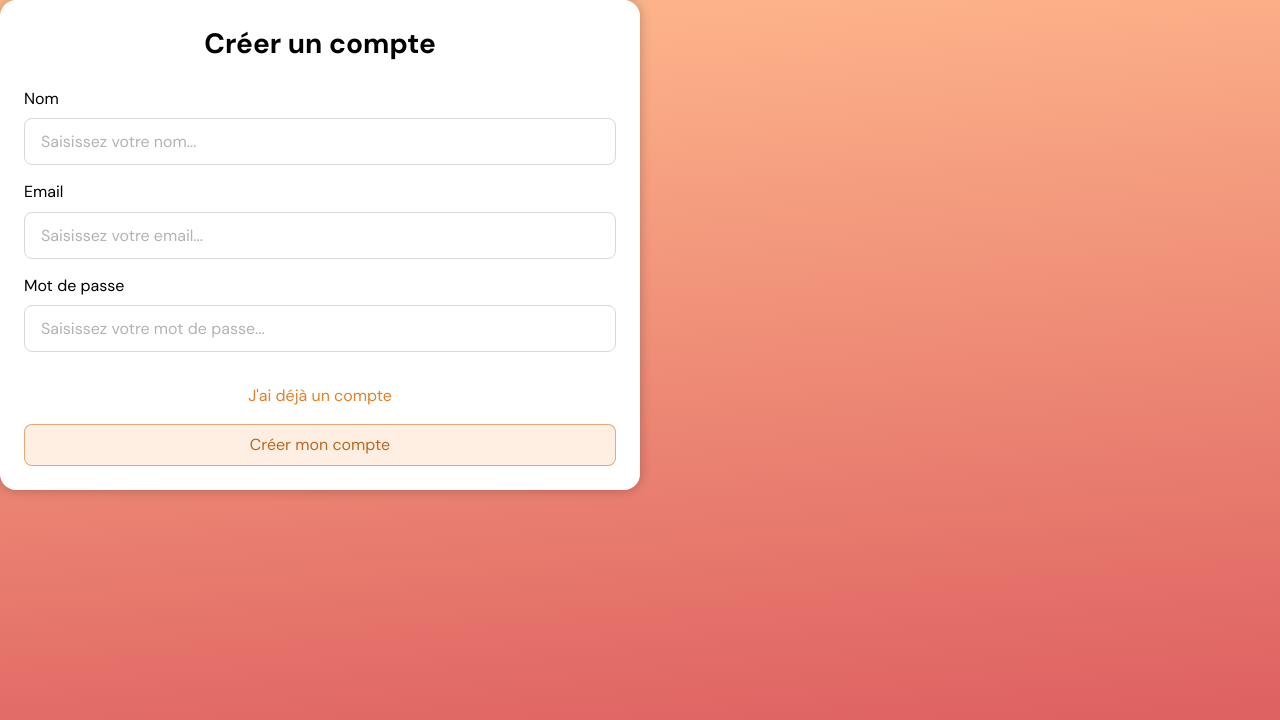
Test: Register › erreur inattendue → message générique
This screenshot has width=1280, height=720.
In the field with placeholder "Saisissez votre nom...": (320, 142) [24, 118, 616, 165], type "Léa"
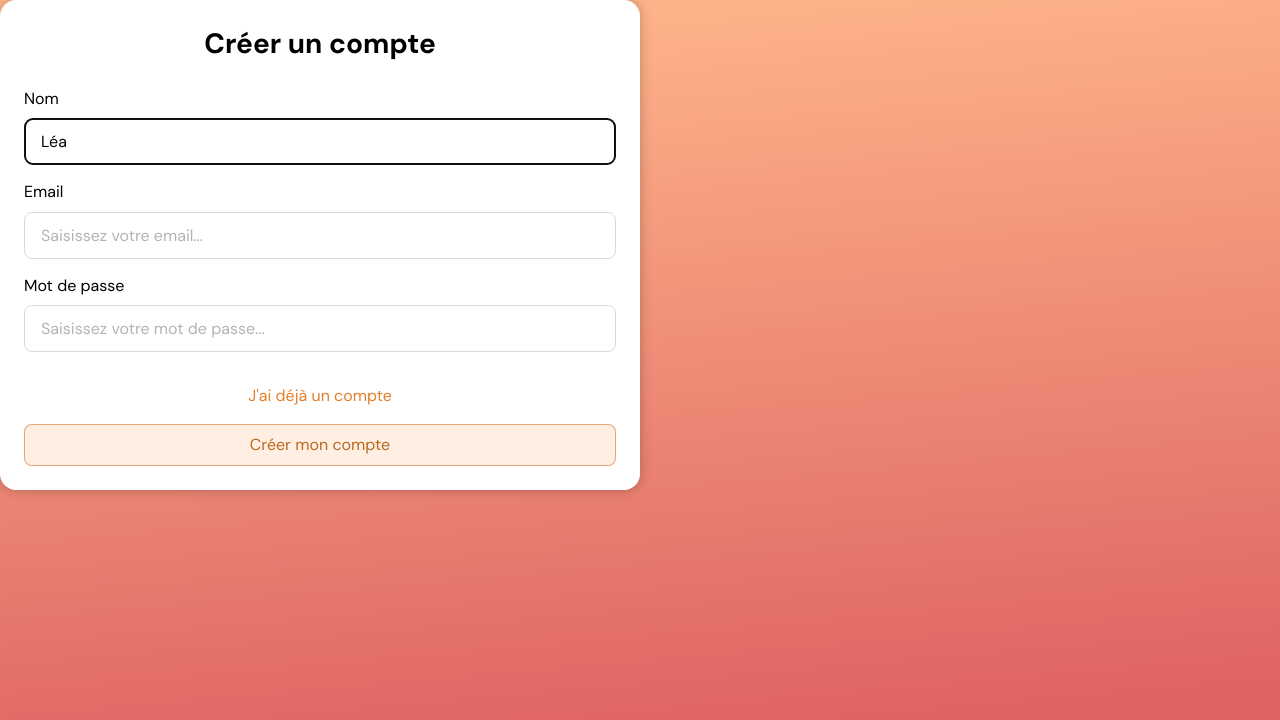
In the field with placeholder "Saisissez votre email...": (320, 235) [24, 212, 616, 259], type "lea@example.com"
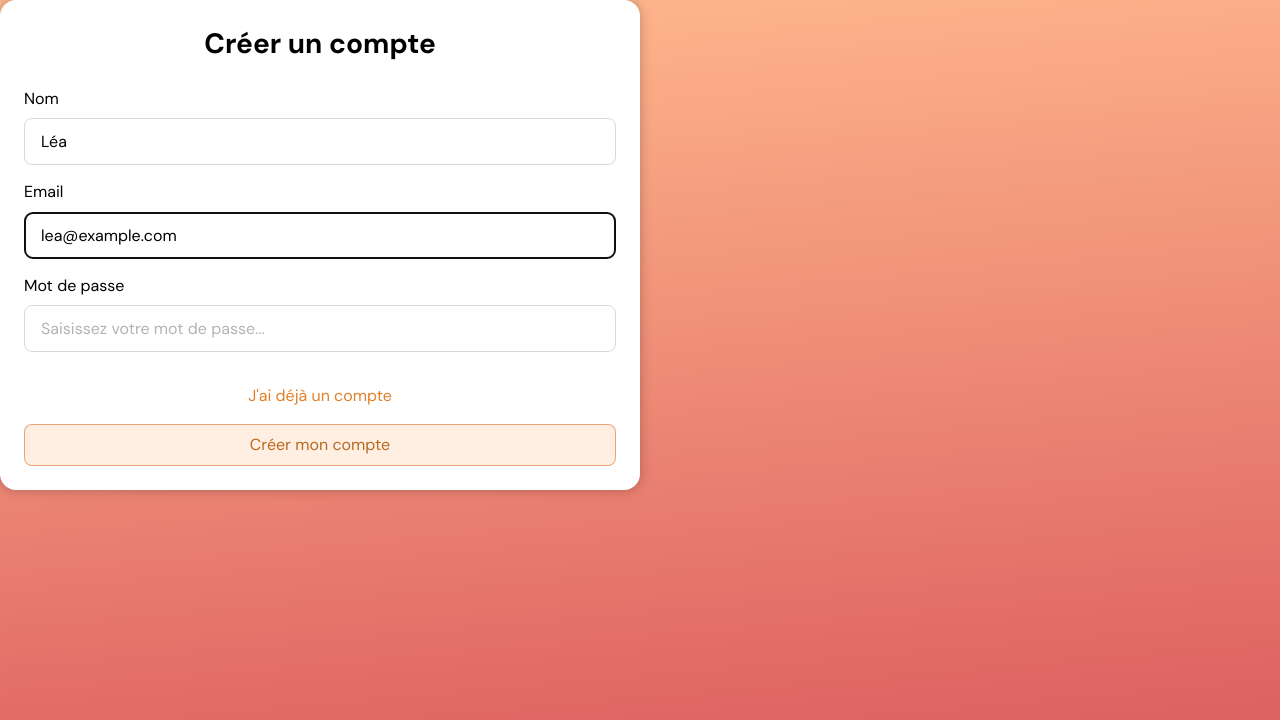
In the password field with placeholder "Saisissez votre mot de passe...": (320, 329) [24, 305, 616, 352], type "motdepasse123"
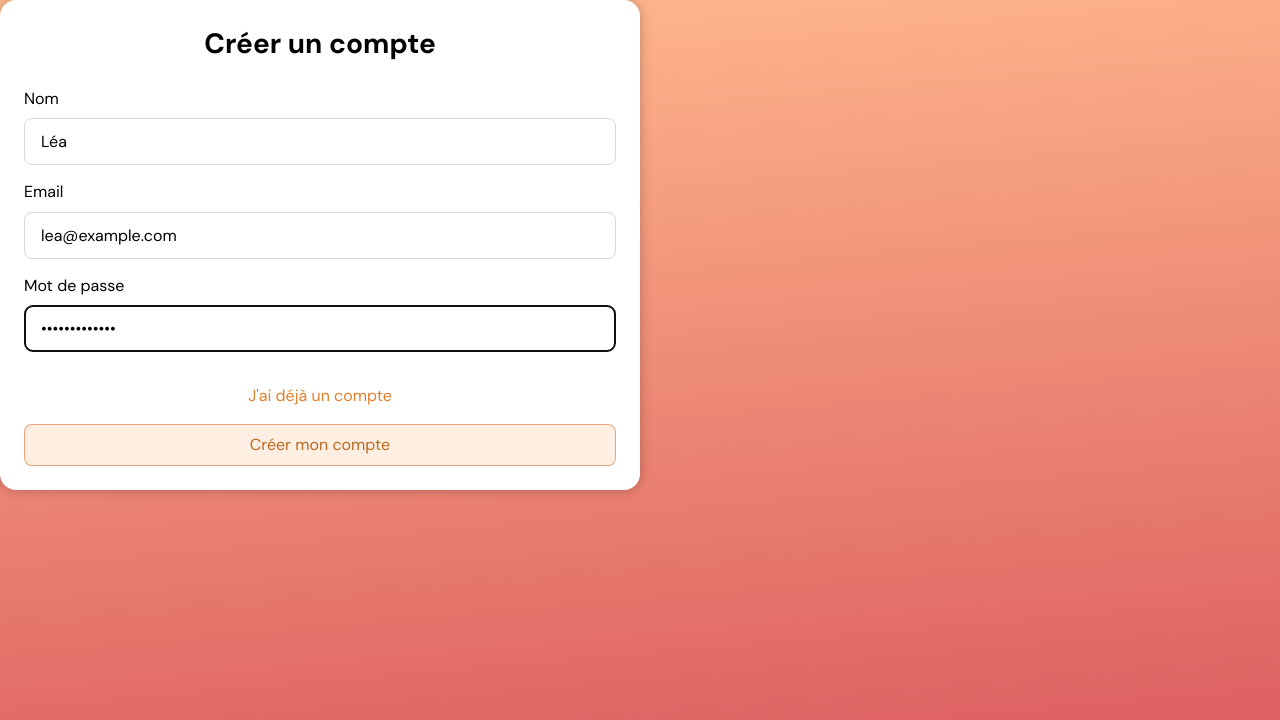
Click the button "Créer mon compte": click(320, 445) [24, 424, 616, 466]
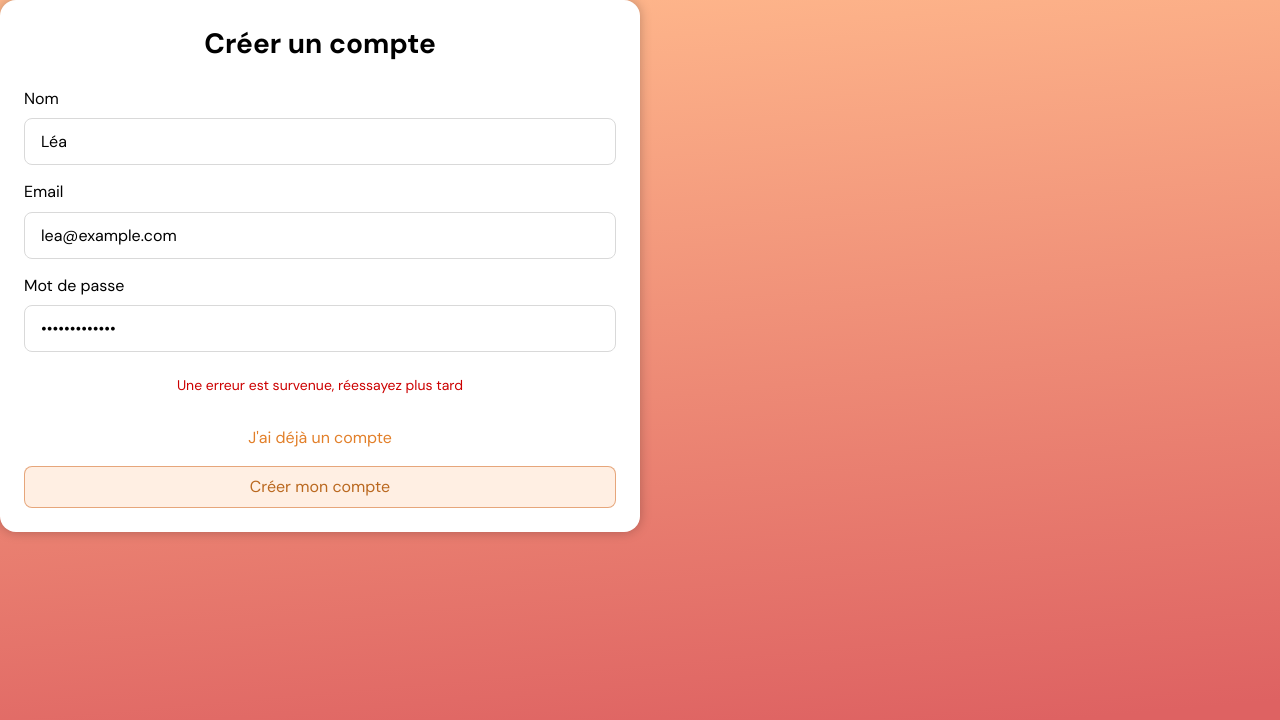
Expected: the text "Une erreur est survenue, réessayez plus tard" is shown, [177, 376, 463, 394]
